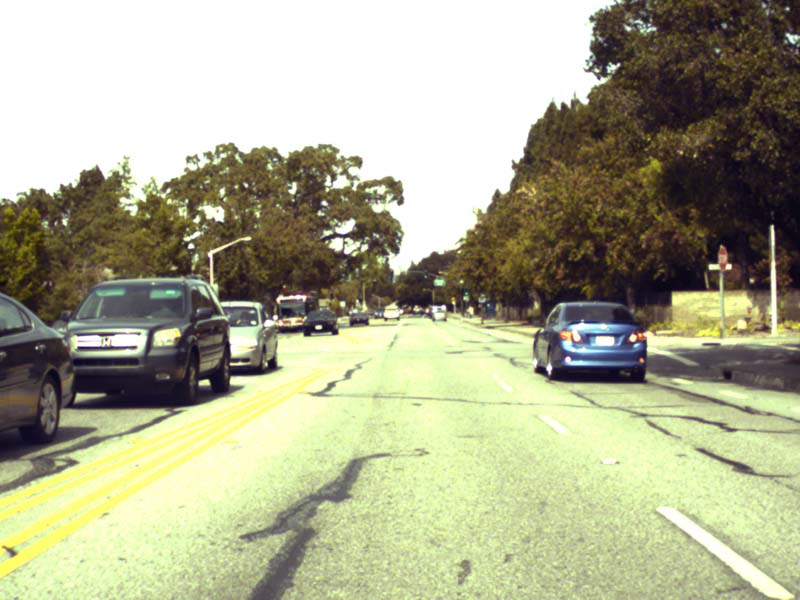Green: (423, 270, 427, 278), (463, 291, 468, 296)
